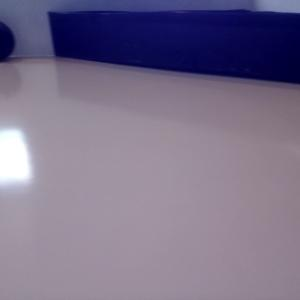zone: (48, 10, 300, 84)
